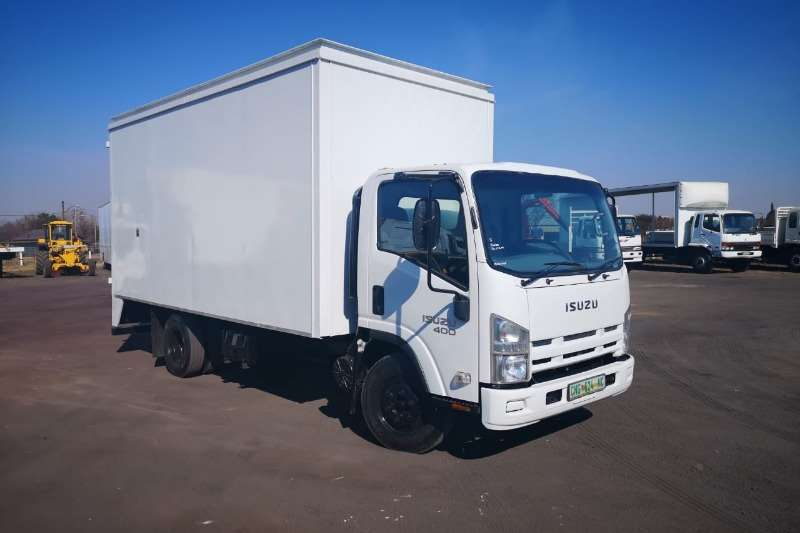Truck: (108, 111, 639, 454)
